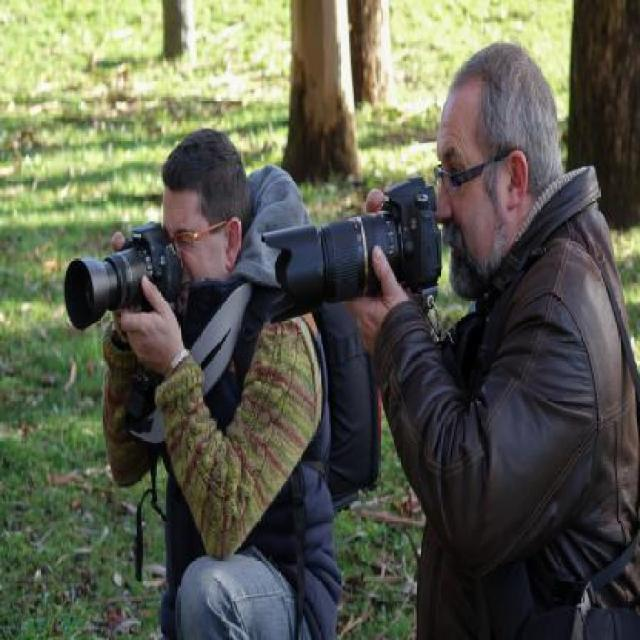Person: (346, 46, 639, 639), (109, 137, 322, 608)
